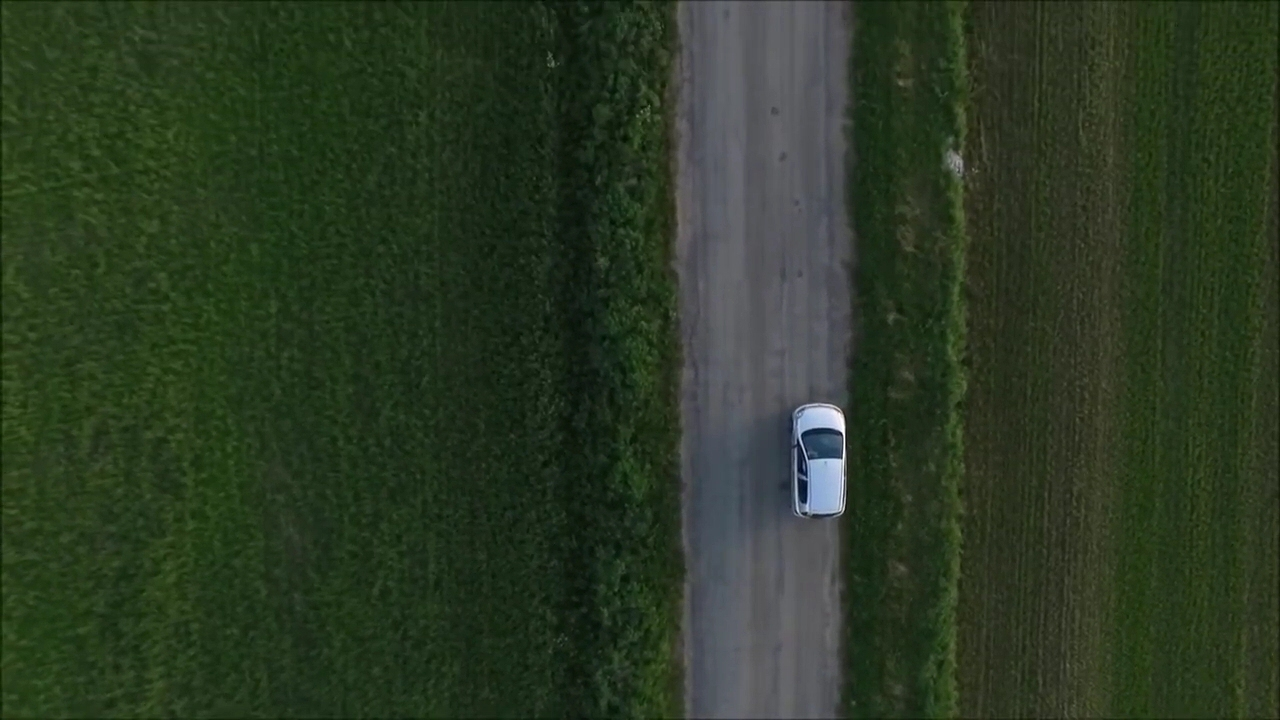araba: (786, 402, 852, 520)
